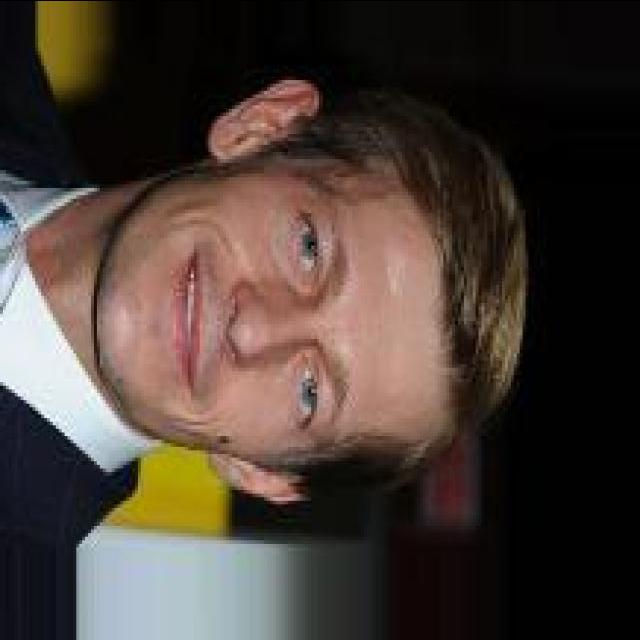bareface: (89, 170, 438, 452)
